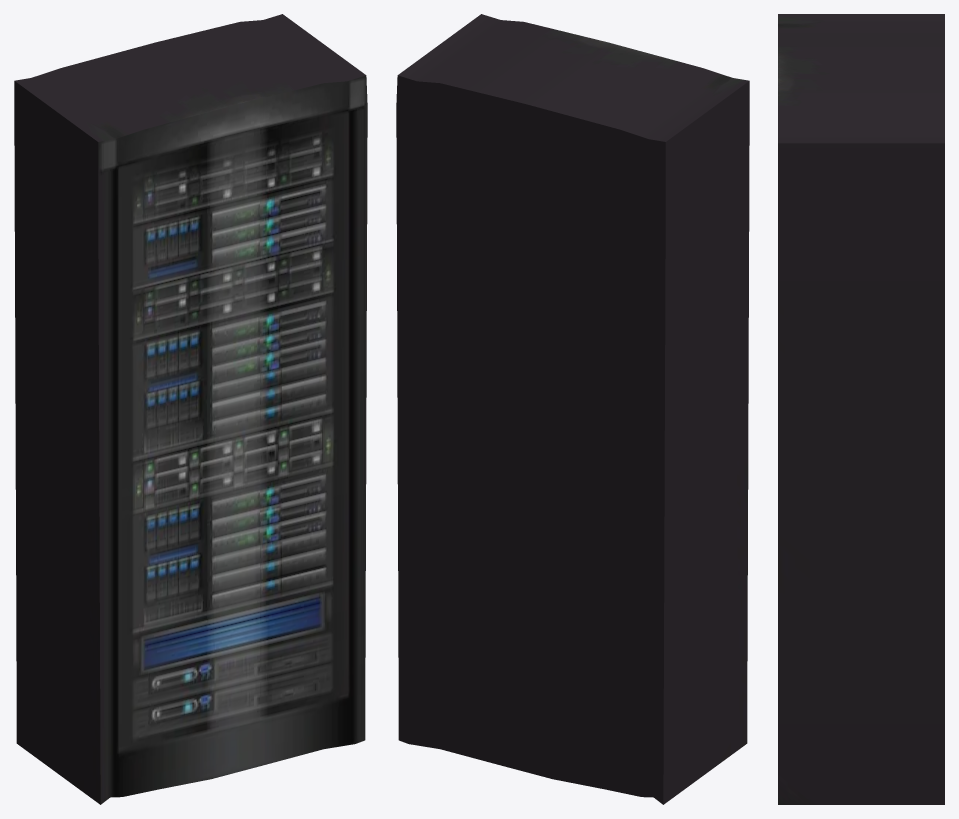
The model's file is rack-server.glb.
3 renders of one model, left to right at view 1: azimuth 30°, elevation 25°; view 2: azimuth 150°, elevation 25°; view 3: azimuth 270°, elevation 25°, orthographic.
Parts seen in each view (by area): view 1: root_Material_58_0; view 2: root_Material_58_0; view 3: root_Material_58_0.
Boxes of the visible parts, <box> form: root_Material_58_0: <box>14,14,367,804</box>; root_Material_58_0: <box>396,14,749,804</box>; root_Material_58_0: <box>778,14,944,804</box>.
Size of the model in its own units: 0.1856 by 0.4402 by 0.1.
1 material, 1 textured.
